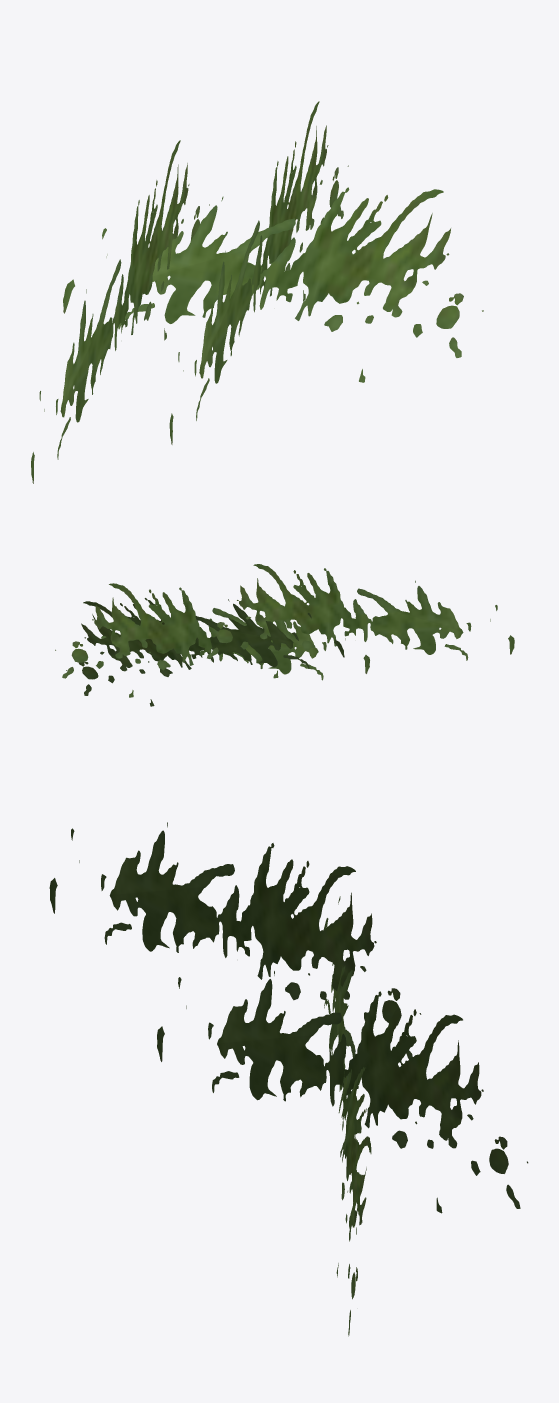
The picture shows the model from 3 angles, top to bottom: view 1: azimuth 30°, elevation 25°; view 2: azimuth 150°, elevation 25°; view 3: azimuth 270°, elevation 25°; orthographic projection. The views are drawn at different scales.
Parts seen in each view (by area): view 1: mesh_25; view 2: mesh_25; view 3: mesh_25.
Boxes of the visible parts, x1,y1,x2,y2 form: mesh_25: (31, 101, 483, 483); mesh_25: (55, 564, 514, 706); mesh_25: (49, 822, 528, 1336).
Size of the model in its own units: 1.22 by 0.6145 by 0.719.
